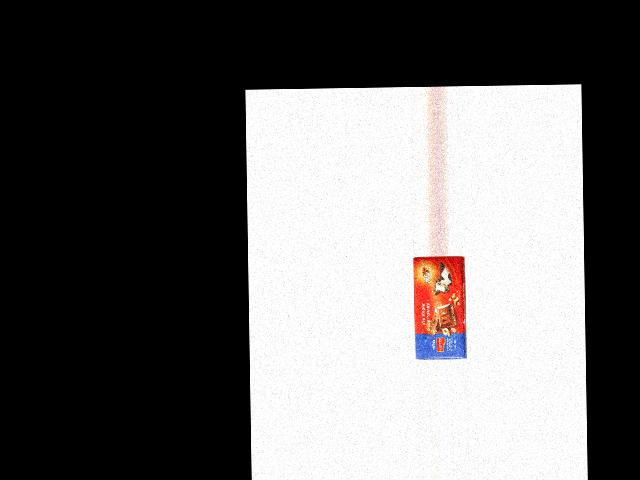chocolate: (413, 255, 466, 359)
